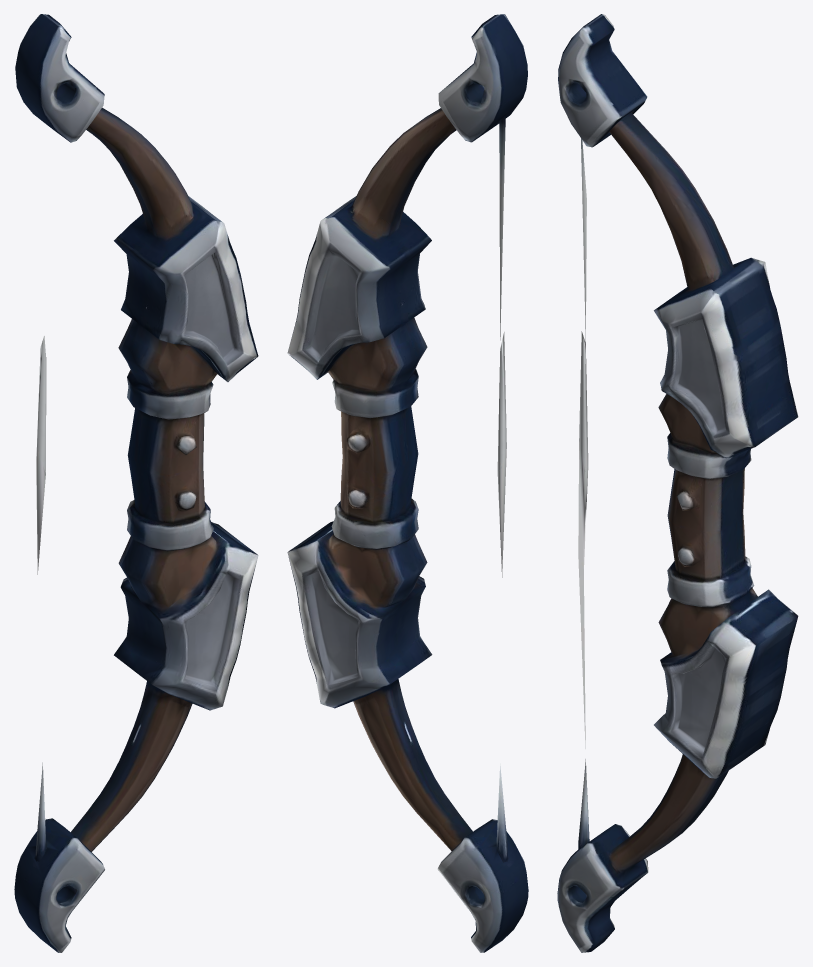
File: w_cleaver--bow.glb
3 renders of one model, left to right at view 1: azimuth 30°, elevation 25°; view 2: azimuth 150°, elevation 25°; view 3: azimuth 330°, elevation 25°, orthographic.
Visible parts, largest first — view 1: Weapon; view 2: Weapon; view 3: Weapon.
Boxes of the visible parts, box(x1,y1,x2,y2) form: Weapon: box(14, 14, 258, 952); Weapon: box(287, 14, 528, 952); Weapon: box(557, 14, 798, 952).
Size of the model in its own units: 0.2335 by 0.9777 by 0.1029.
Materials: 1 (1 with a texture image).
